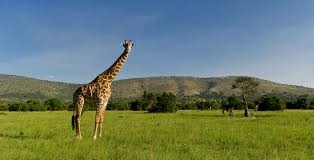giraffe: (67, 38, 137, 141)
